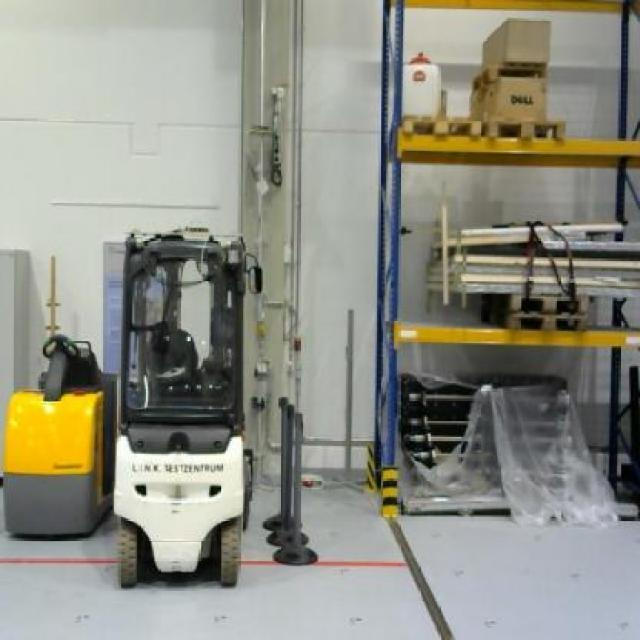box: (481, 16, 552, 69), (467, 74, 547, 118)
